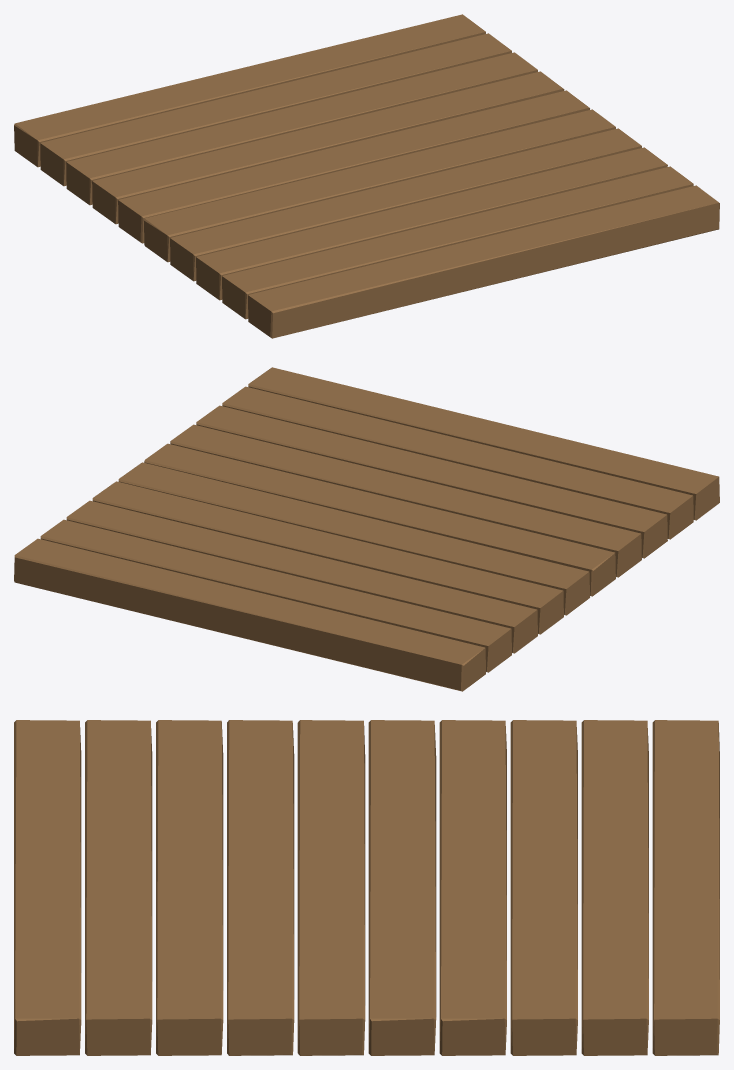
Rendered from harbor-floor.lod1.glb.
The picture shows the model from 3 angles, top to bottom: view 1: azimuth 30°, elevation 25°; view 2: azimuth 150°, elevation 25°; view 3: azimuth 270°, elevation 25°; orthographic projection. The views are drawn at different scales.
Visible parts, largest first — view 1: harbor-floor__body; view 2: harbor-floor__body; view 3: harbor-floor__body.
Boxes of the visible parts, x1,y1,x2,y2 form: harbor-floor__body: (14, 14, 719, 338); harbor-floor__body: (14, 367, 719, 691); harbor-floor__body: (14, 720, 719, 1055).
Size of the model in its own units: 2 by 0.1157 by 1.99.
